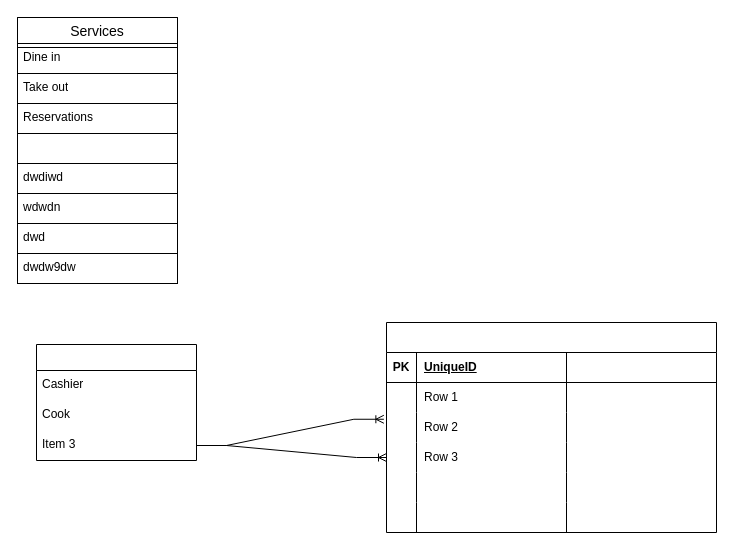
The diagram is 734 pixels wide and 550 high, and some of its shapes have lost their labels. Here are the shapes that lost their labels. From the top down, the box of each, then its label:
(16, 132, 178, 164): Entity
(36, 344, 196, 460): Staff
(386, 322, 716, 532): Table
